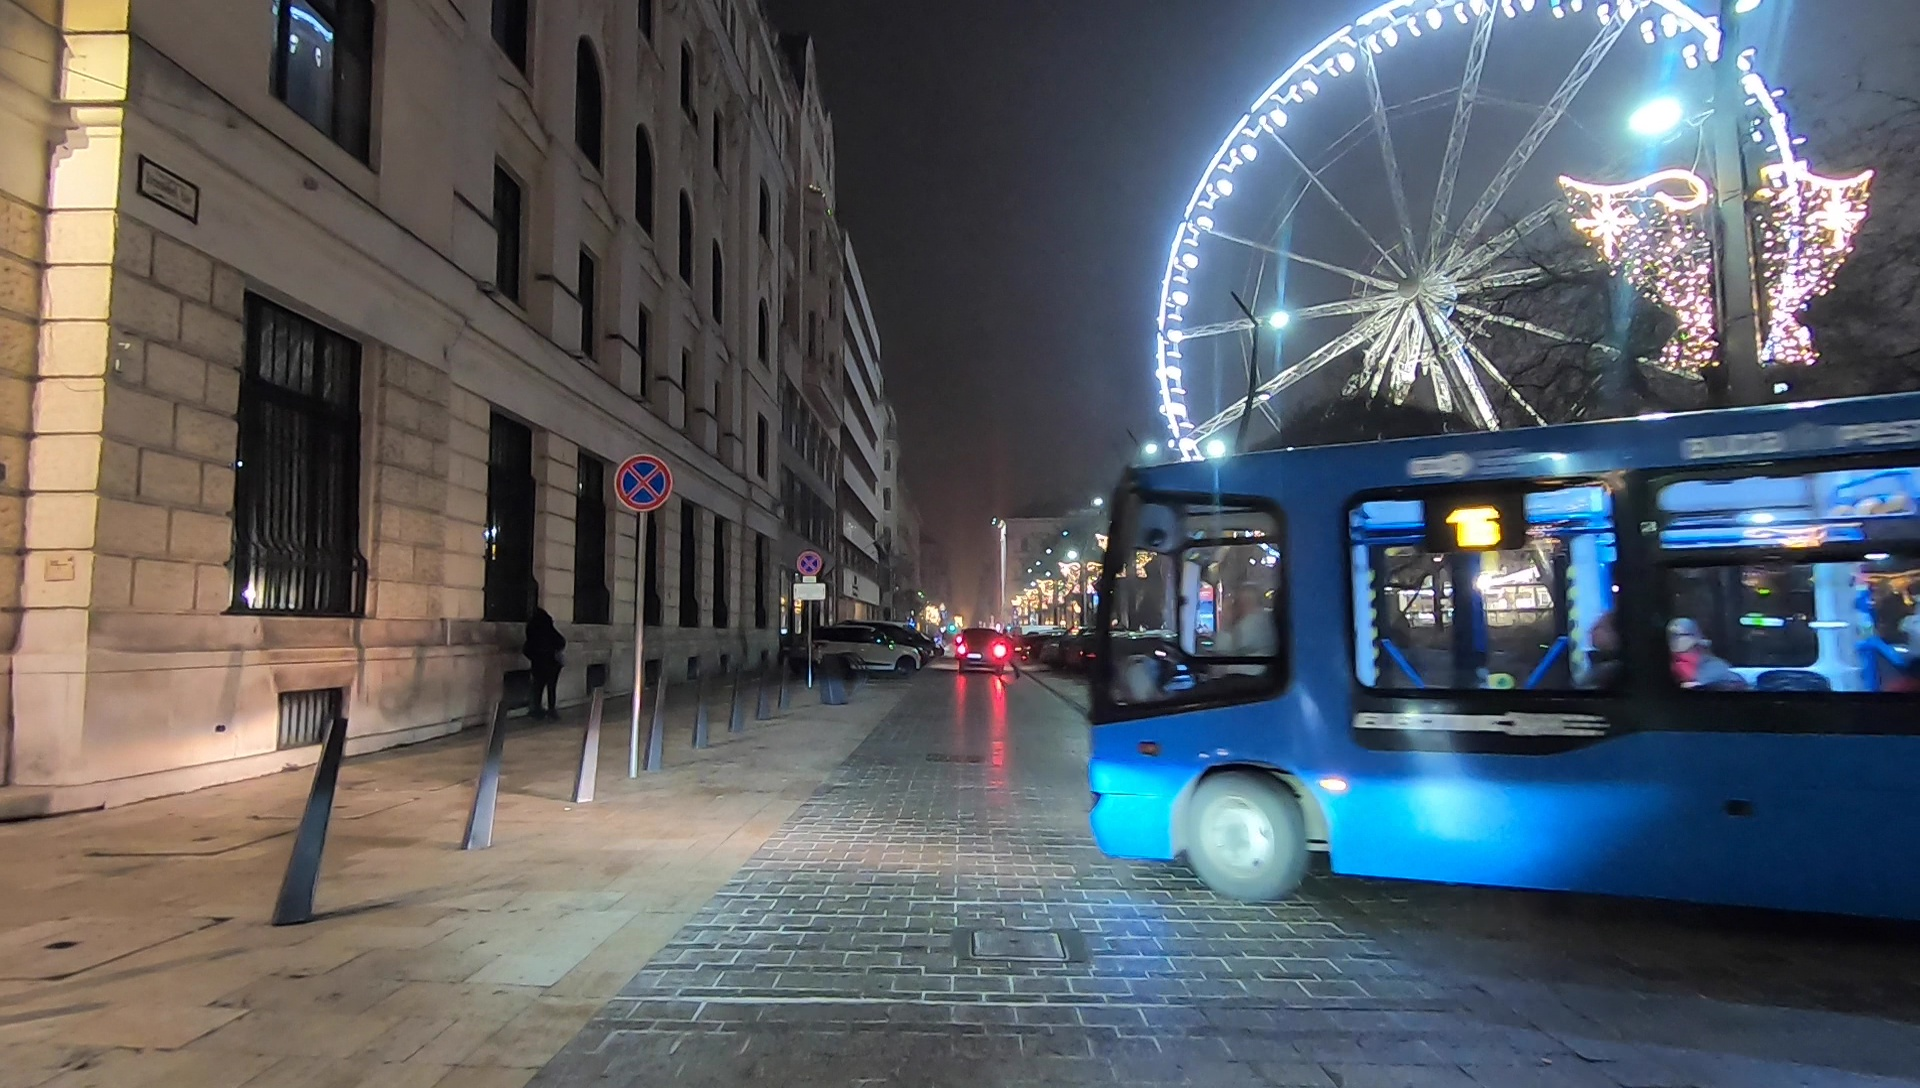person: (521, 610, 567, 715)
